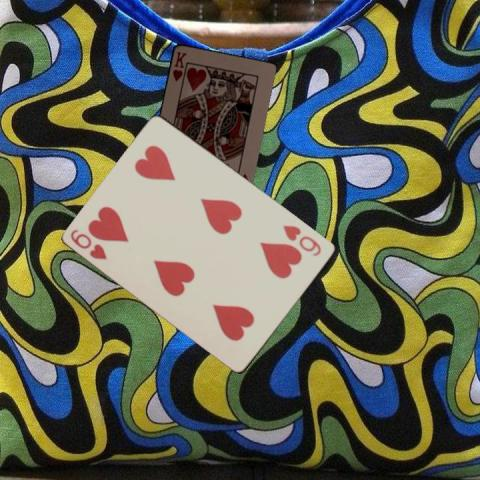6h: (280, 221, 323, 258), (68, 225, 110, 262)
Kh: (169, 48, 188, 82)
